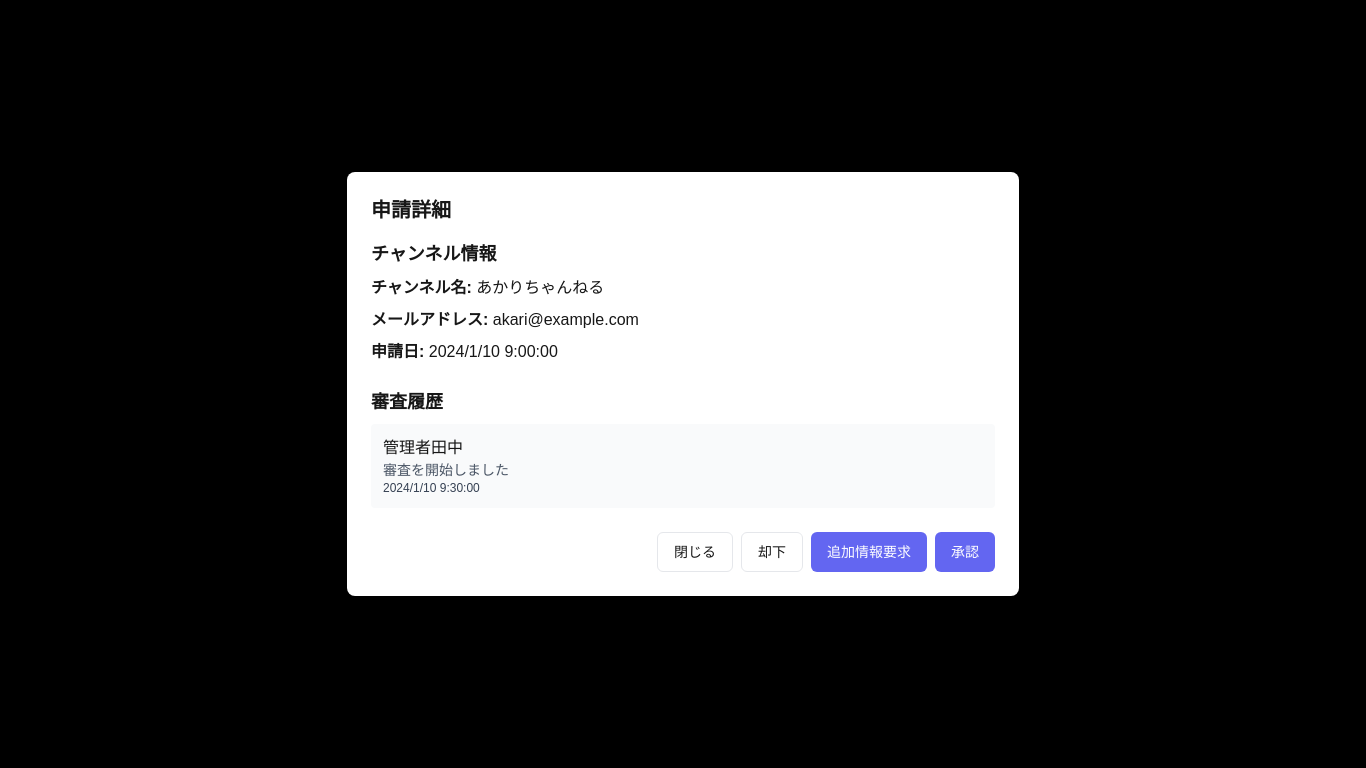
Test: VTuberReviewPage › Review Actions › should show confirmation dialog when approve is clicked
Click the button "承認".
click(965, 552)  # box [935, 532, 995, 572]
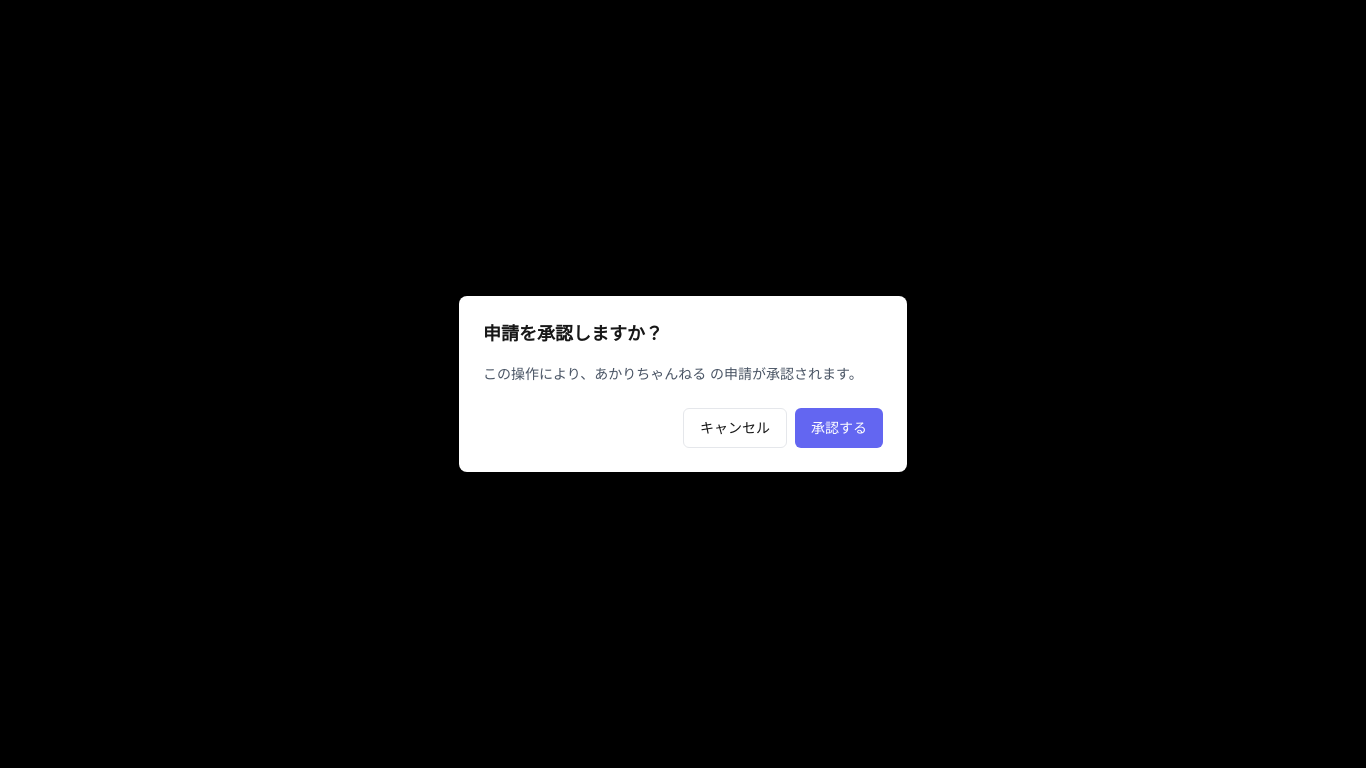
Result: the heading "申請を承認しますか？" is shown at [483, 324, 663, 344]
Result: the button "承認する" is shown at [795, 408, 883, 448]
Result: the button "キャンセル" is shown at [683, 408, 787, 448]
